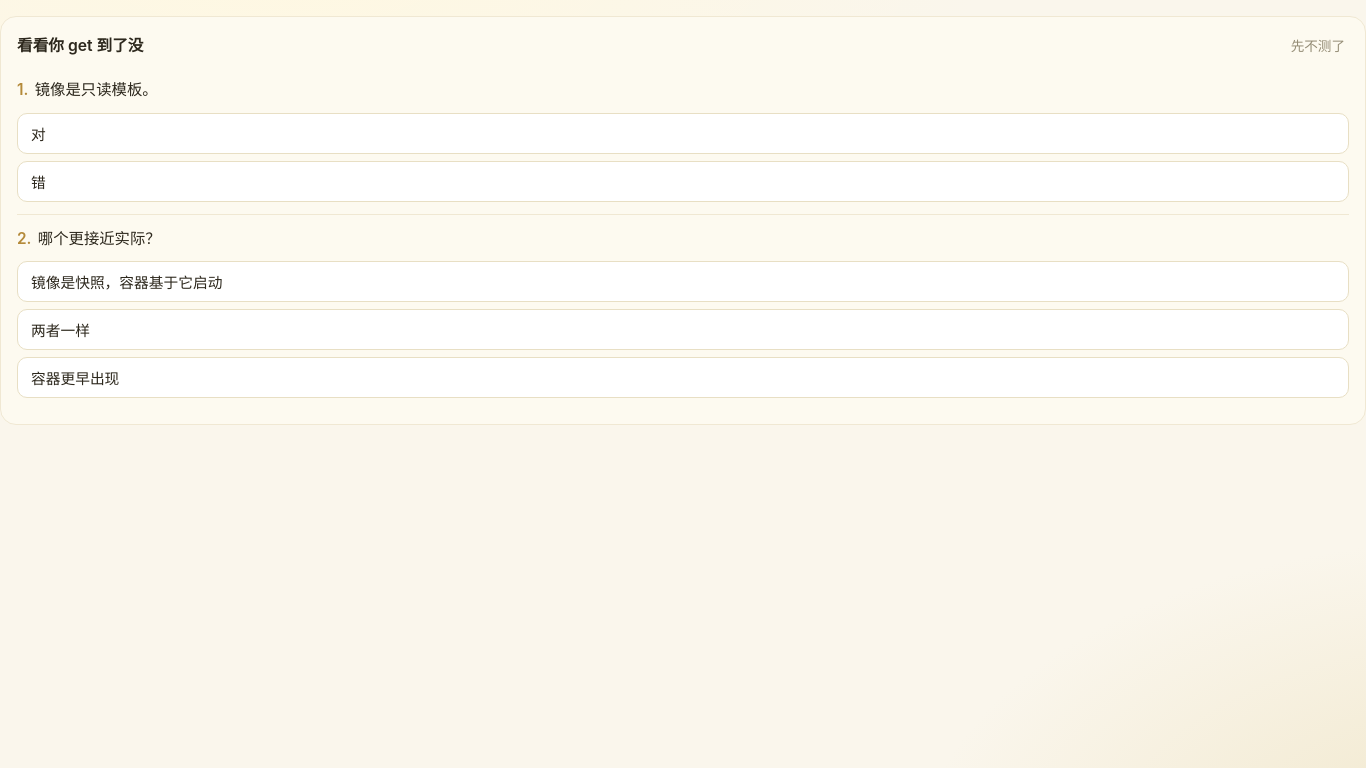
Test case: QuizPanel › on a wrong pick, points gently back to the node, and scores encouragingly
Q1 wrong ("错")
Click the button "错".
click(38, 183)  # box 17,161 -> 1349,202
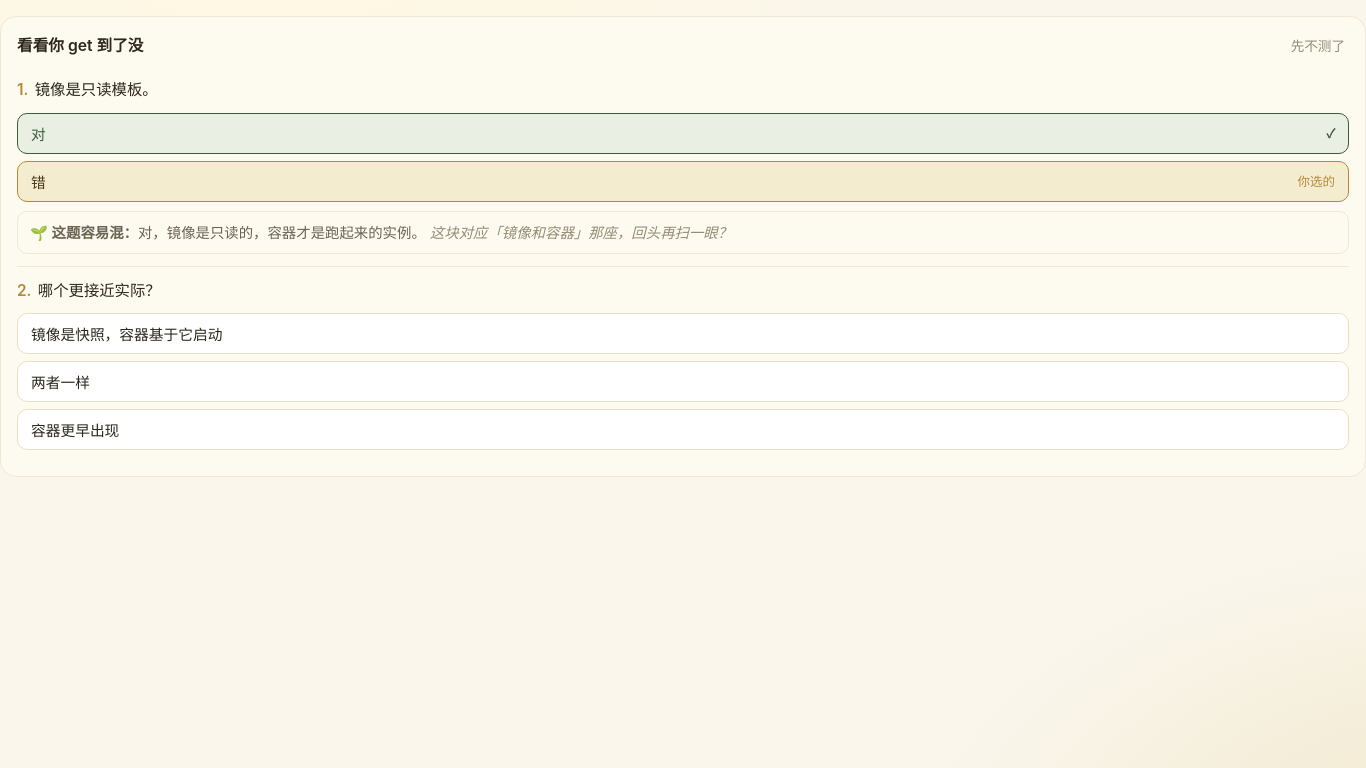
Check: the text "这块对应「镜像和容器」那座，回头再扫一眼？" is shown, box 426,224 -> 732,241
Q2 wrong ("两者一样")
Click the button "两者一样".
click(60, 383)  # box 17,361 -> 1349,402
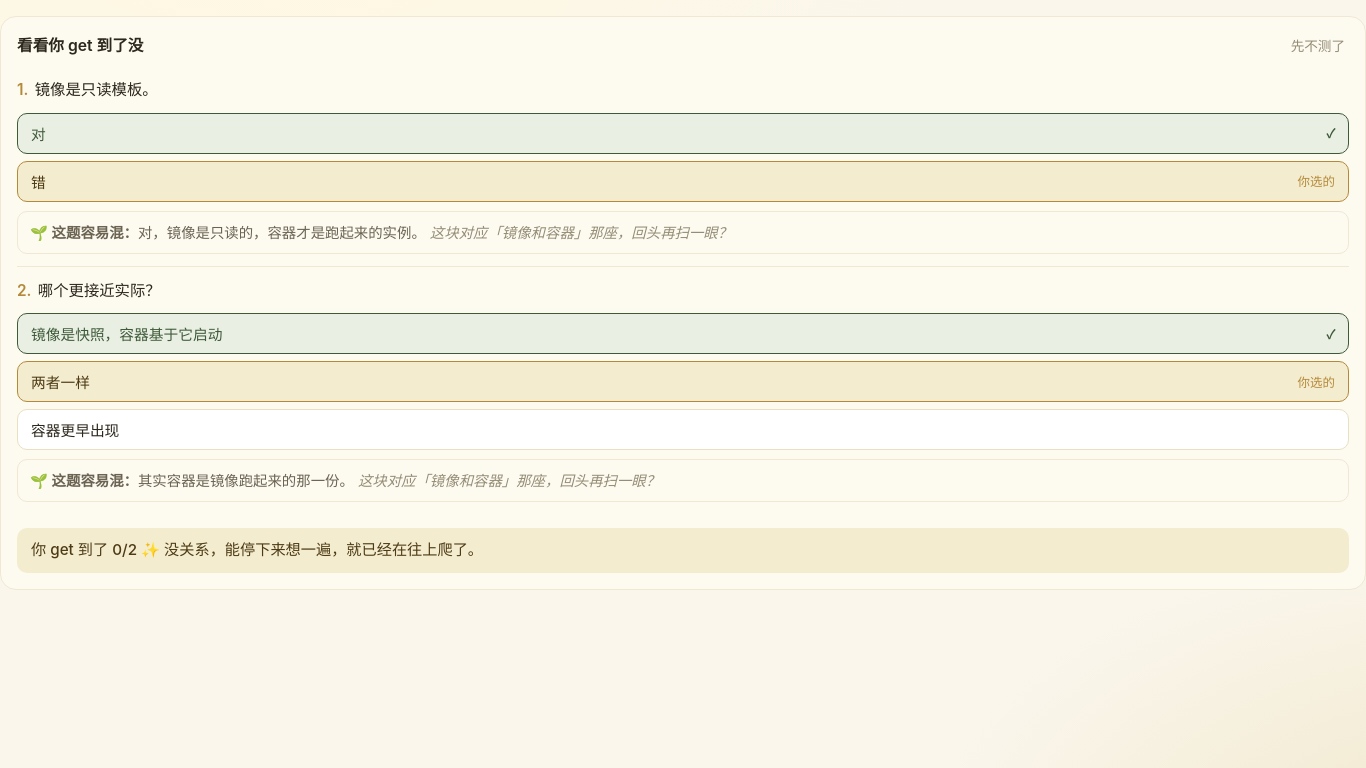
Check: the text "你 get 到了 0/2 ✨ 没关系，能停下来想一遍，就已经在往上爬了。" is shown, box 17,528 -> 1349,573
